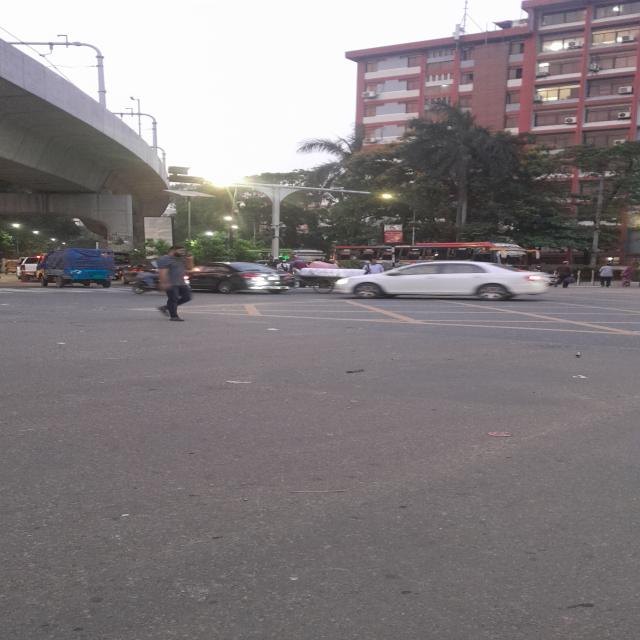person: (157, 246, 191, 322)
